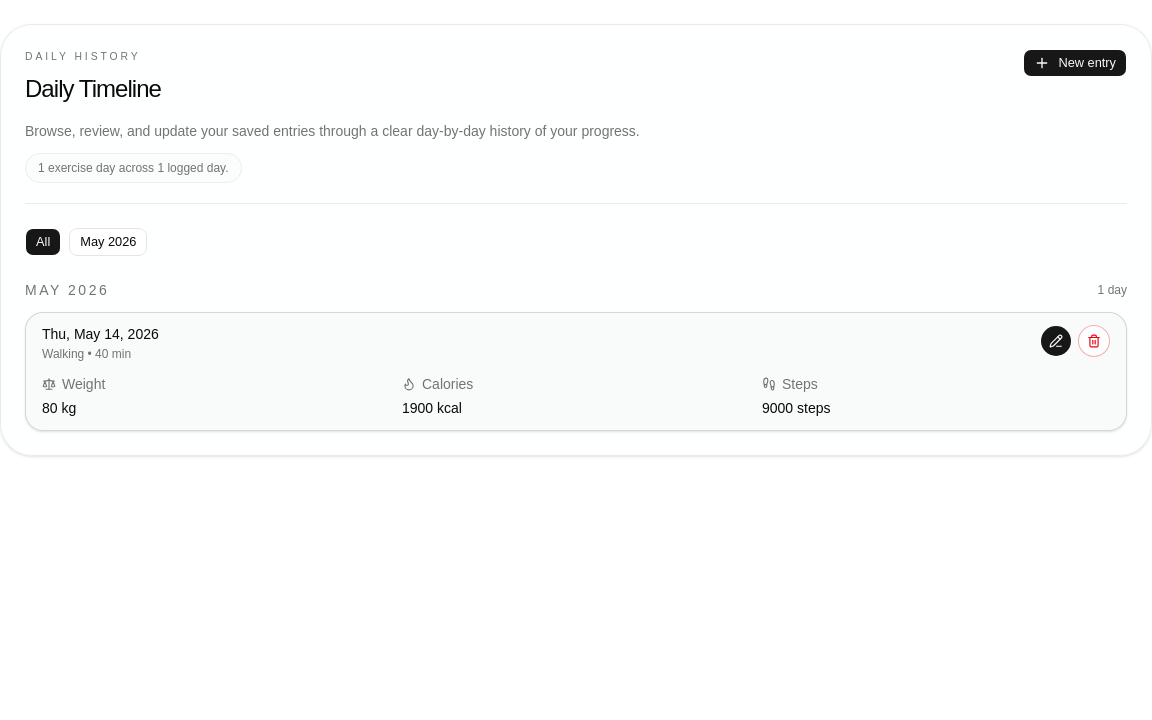
Test: DailyHistoryPage › does not ask to discard when reopening the currently selected dirty day
Step 1. Click the button named "edit" → (1056, 341), box x1=1040 y1=325 x2=1072 y2=357
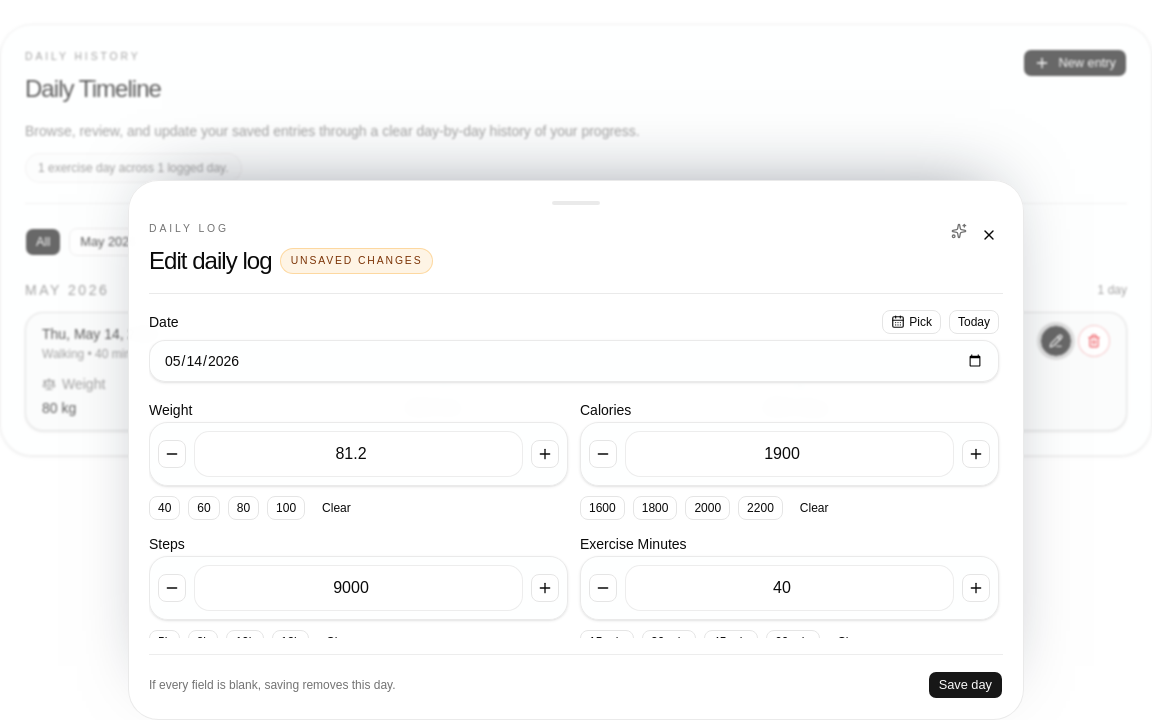
Expected: the dialog "Daily log" is shown, x1=128 y1=180 x2=1024 y2=719
